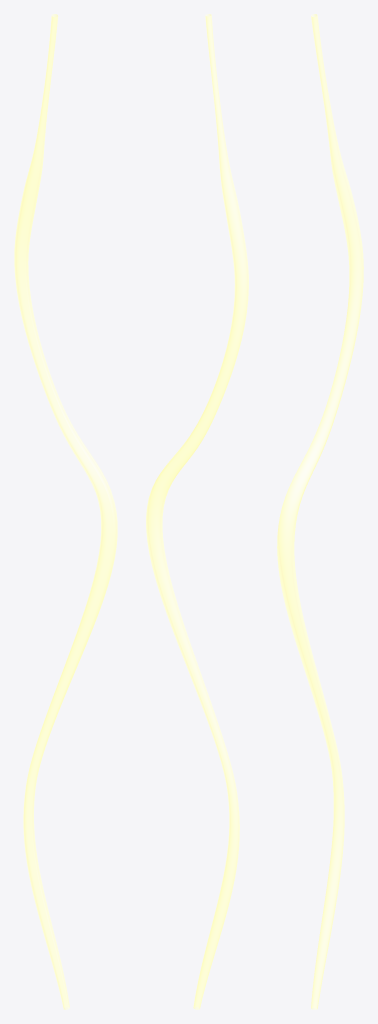
The model's file is strand_e_cairn.glb.
3 views of the same model, side by side, from view 1: azimuth 30°, elevation 25°; view 2: azimuth 210°, elevation 25°; view 3: azimuth 270°, elevation 25° (orthographic).
Size of the model in its own units: 0.5599 by 8.01 by 0.6366.
